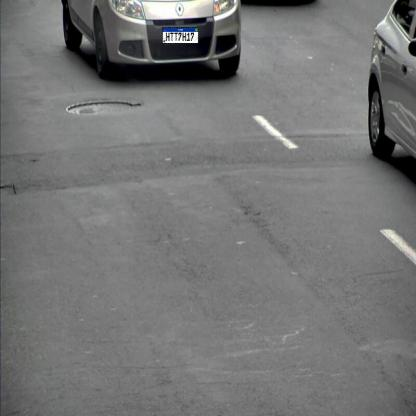PlacaM: (162, 27, 199, 44)
